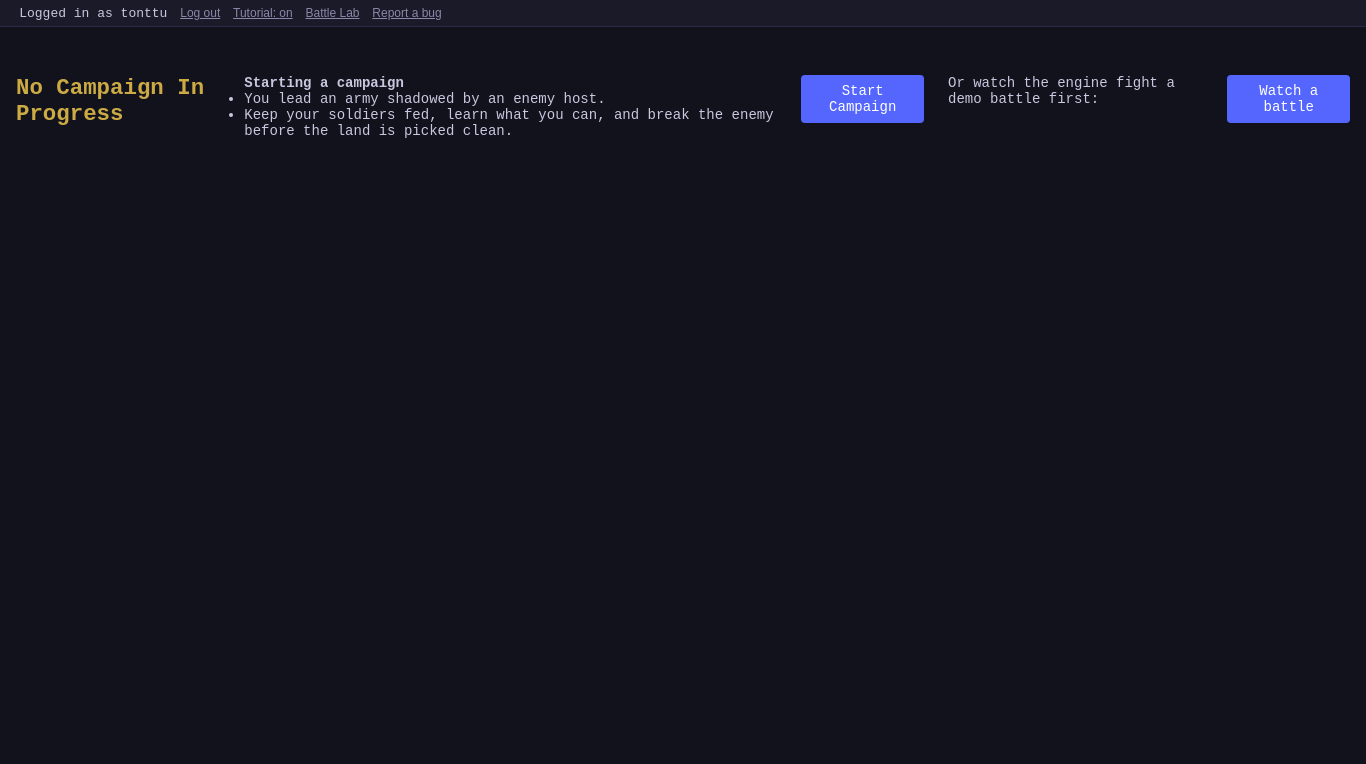
it: campaign flow › with no campaign, Start Campaign creates one and lands on the council
The width and height of the screenshot is (1366, 764).
Click the button with test id "start-campaign": coordinates (863, 99) [802,75,924,123]
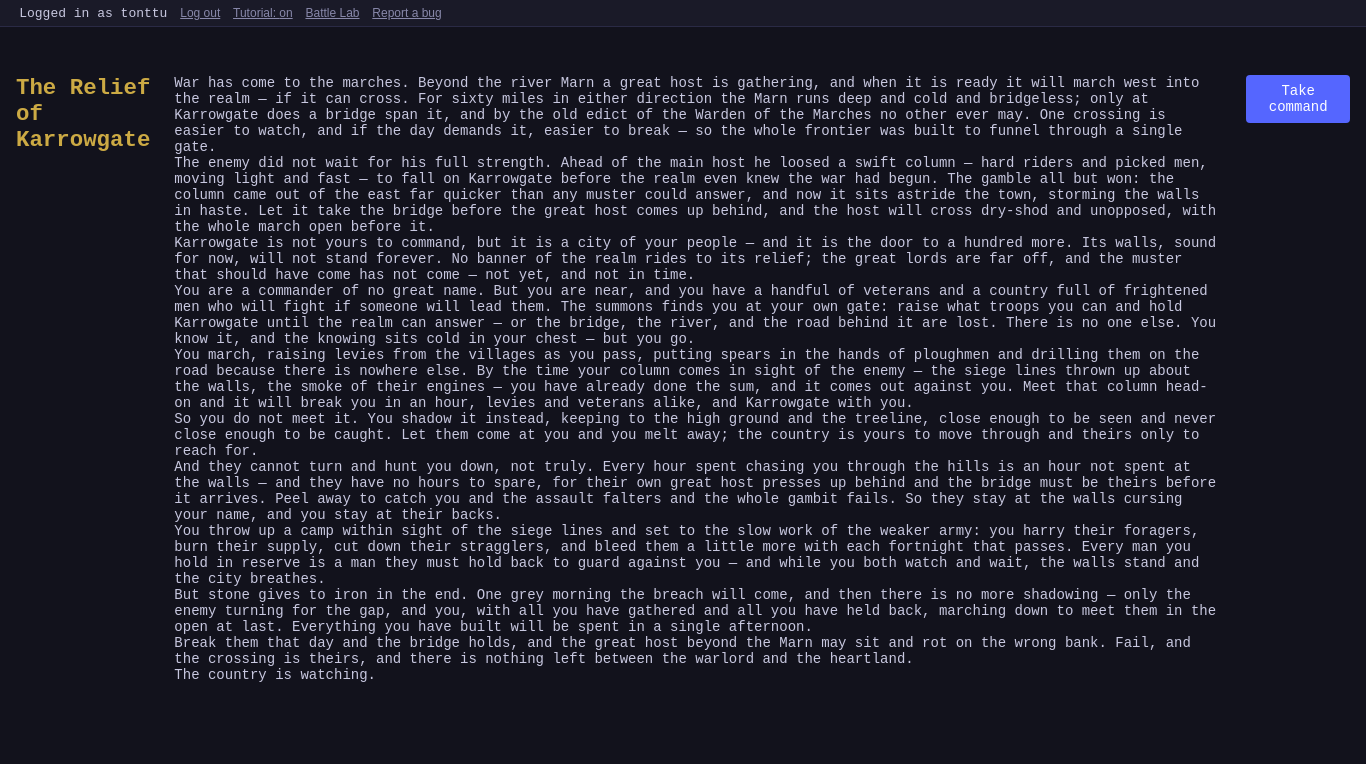
Click the button with test id "take-command": coordinates (1298, 99) [1246,75,1350,123]
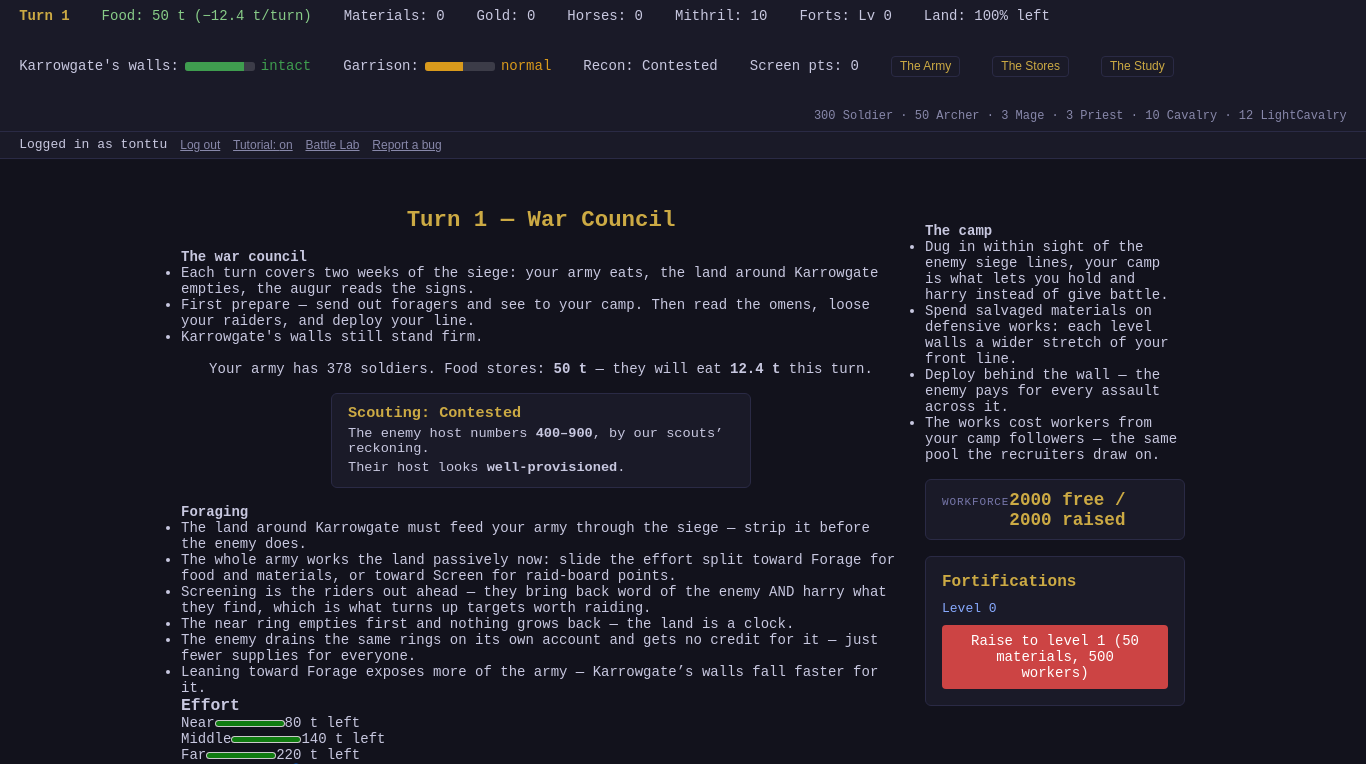
Expected: the heading "Turn 1 — War Council" is shown, [407,207,675,233]
